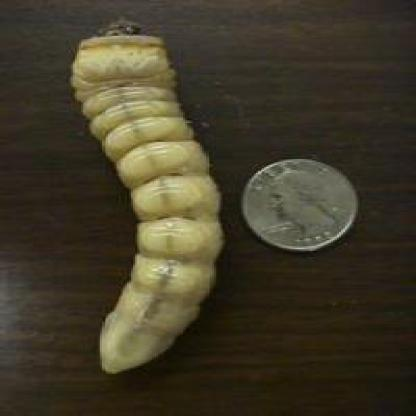root grubs: (71, 24, 223, 373)
